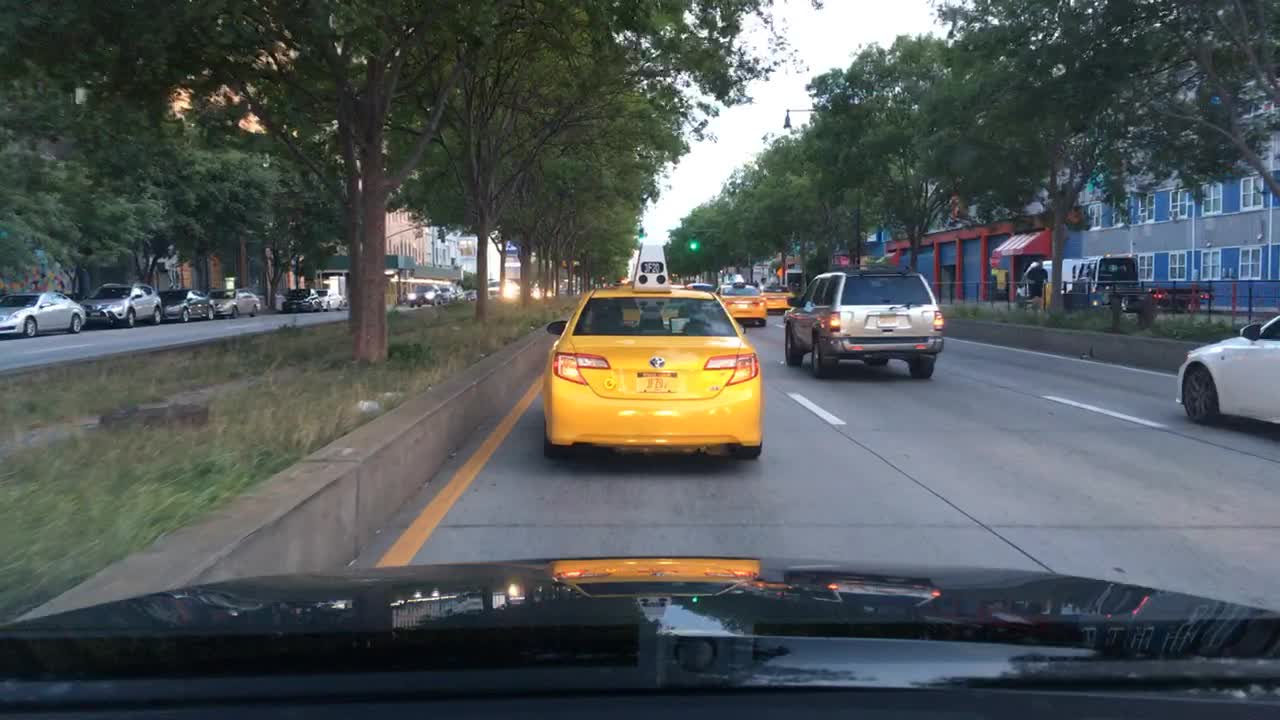car: (541, 239, 766, 462), (781, 266, 938, 373), (1178, 314, 1279, 433), (77, 280, 162, 331), (0, 292, 87, 339), (719, 273, 766, 329), (158, 288, 216, 320), (209, 288, 261, 320), (759, 273, 793, 310), (280, 287, 322, 314), (403, 282, 440, 305), (314, 288, 346, 310), (486, 280, 519, 300), (435, 282, 455, 305), (683, 280, 719, 292), (455, 288, 481, 299)
person: (1027, 255, 1049, 317)
traffic light: (687, 233, 700, 250), (636, 226, 644, 243)
truck: (1070, 255, 1210, 314), (1014, 258, 1081, 302)
